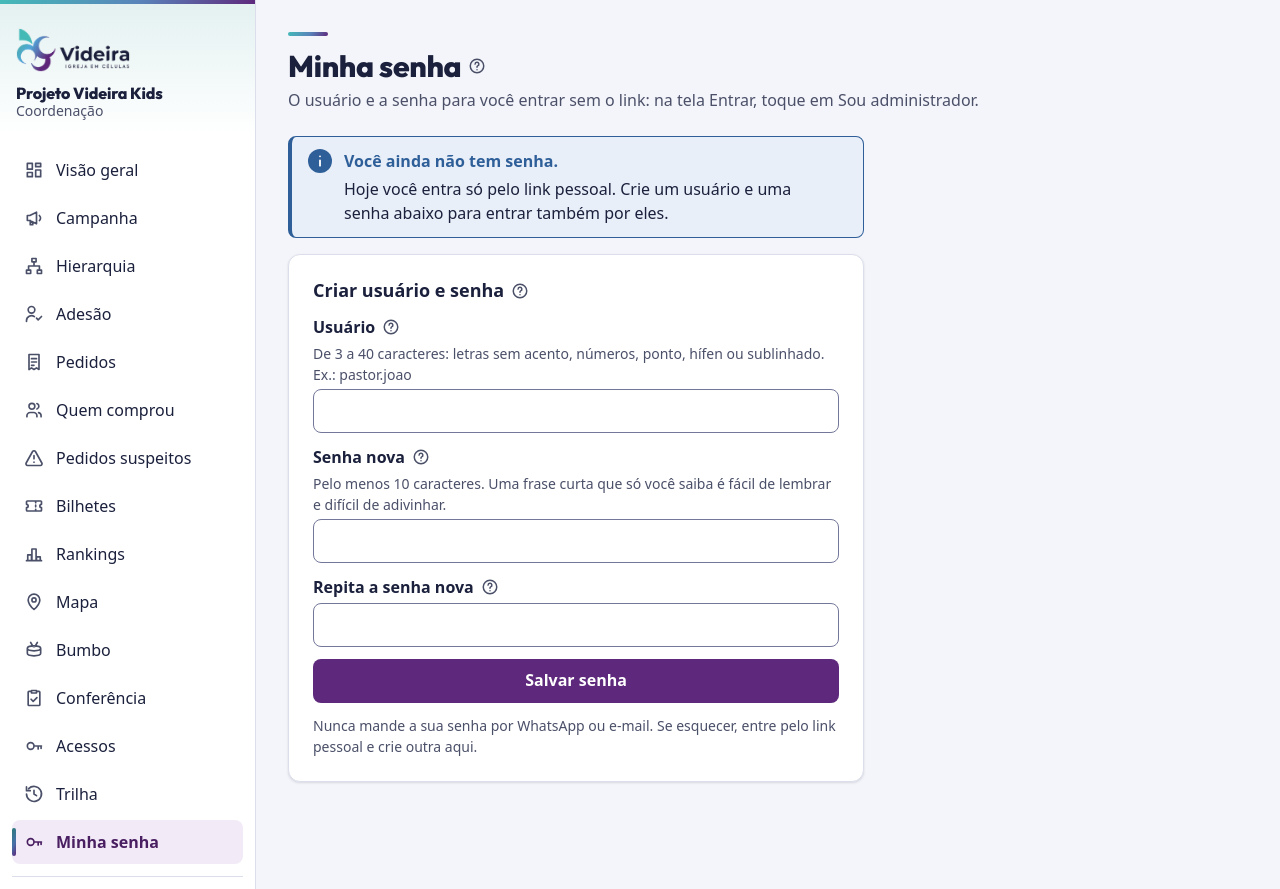
RIFA-073: tela Minha senha › sem senha: cria com usuário, senha e confirmação; o PUT leva os dois e a tela limpa a senha
Check: the text "Você ainda não tem senha." is shown, box [344, 150, 558, 172]
Check: the link "Minha senha" is shown, box [12, 820, 243, 864]
Type "Pastor.Teste" into the field labelled "Usuário".
click(576, 411); type("Pastor.Teste")  # box [313, 389, 839, 433]
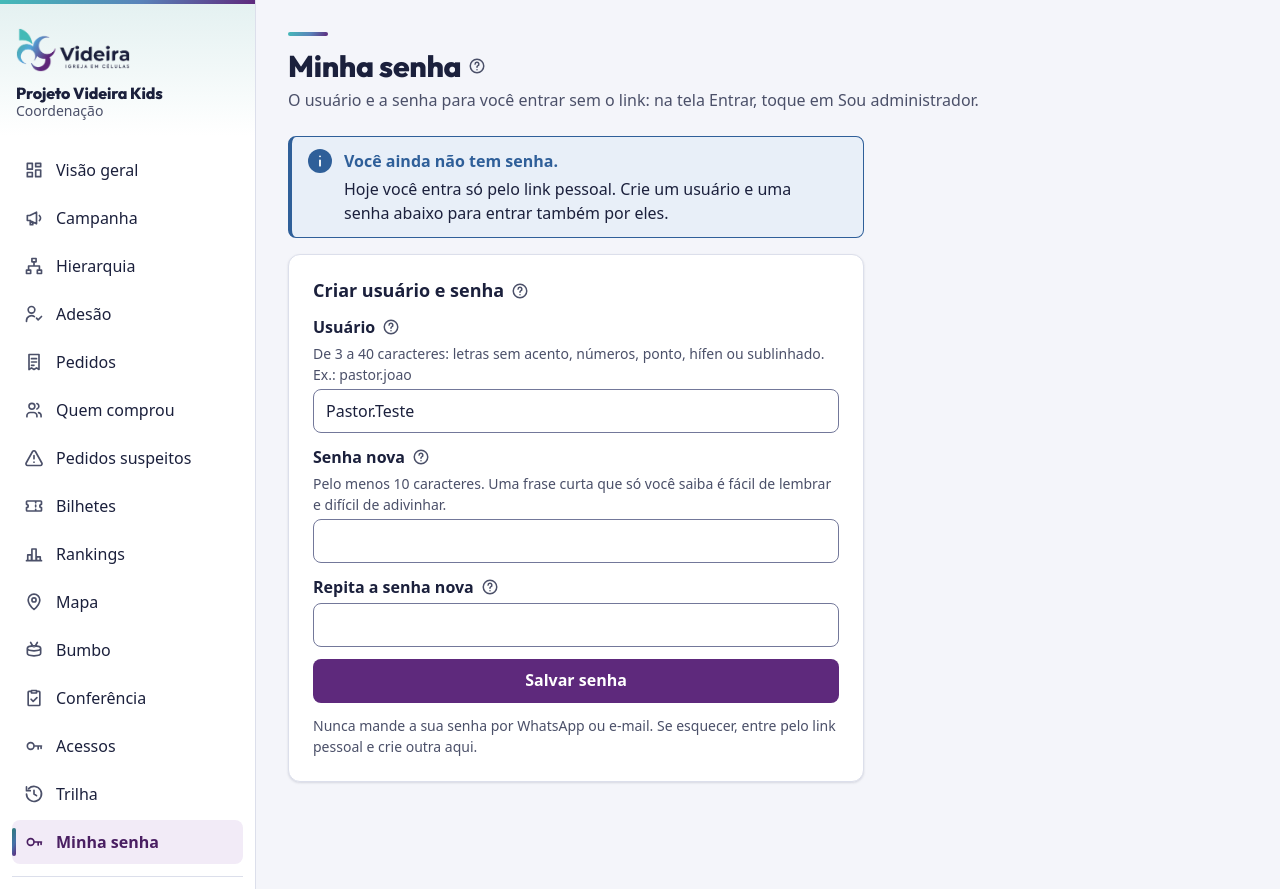
Type "senha ficticia de teste" into the password field labelled "Senha nova".
click(576, 541); type("senha ficticia de teste")  # box [313, 519, 839, 563]
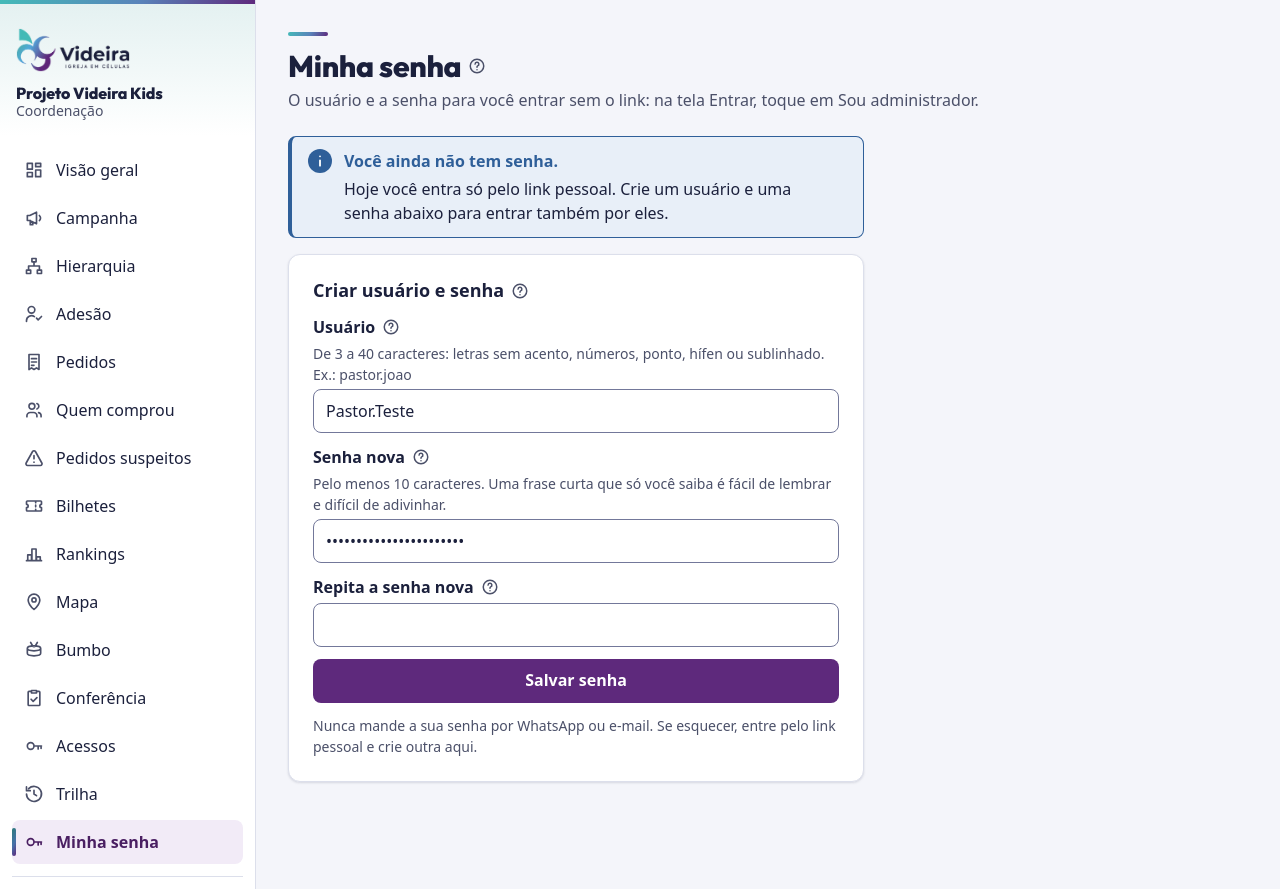
Type "senha ficticia de teste" into the password field labelled "Repita a senha nova".
click(576, 625); type("senha ficticia de teste")  # box [313, 603, 839, 647]
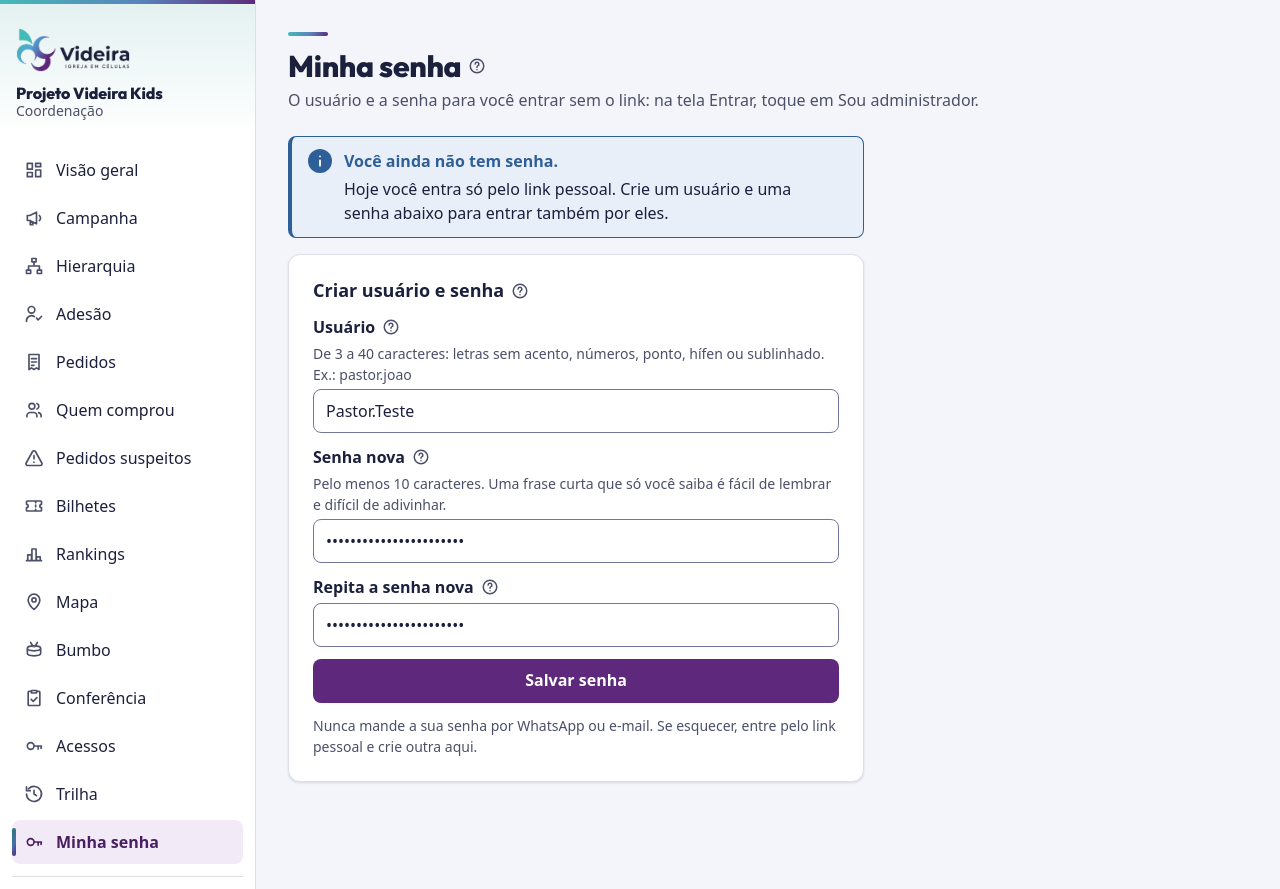
Click the button "Salvar senha".
click(576, 681)  # box [313, 659, 839, 703]
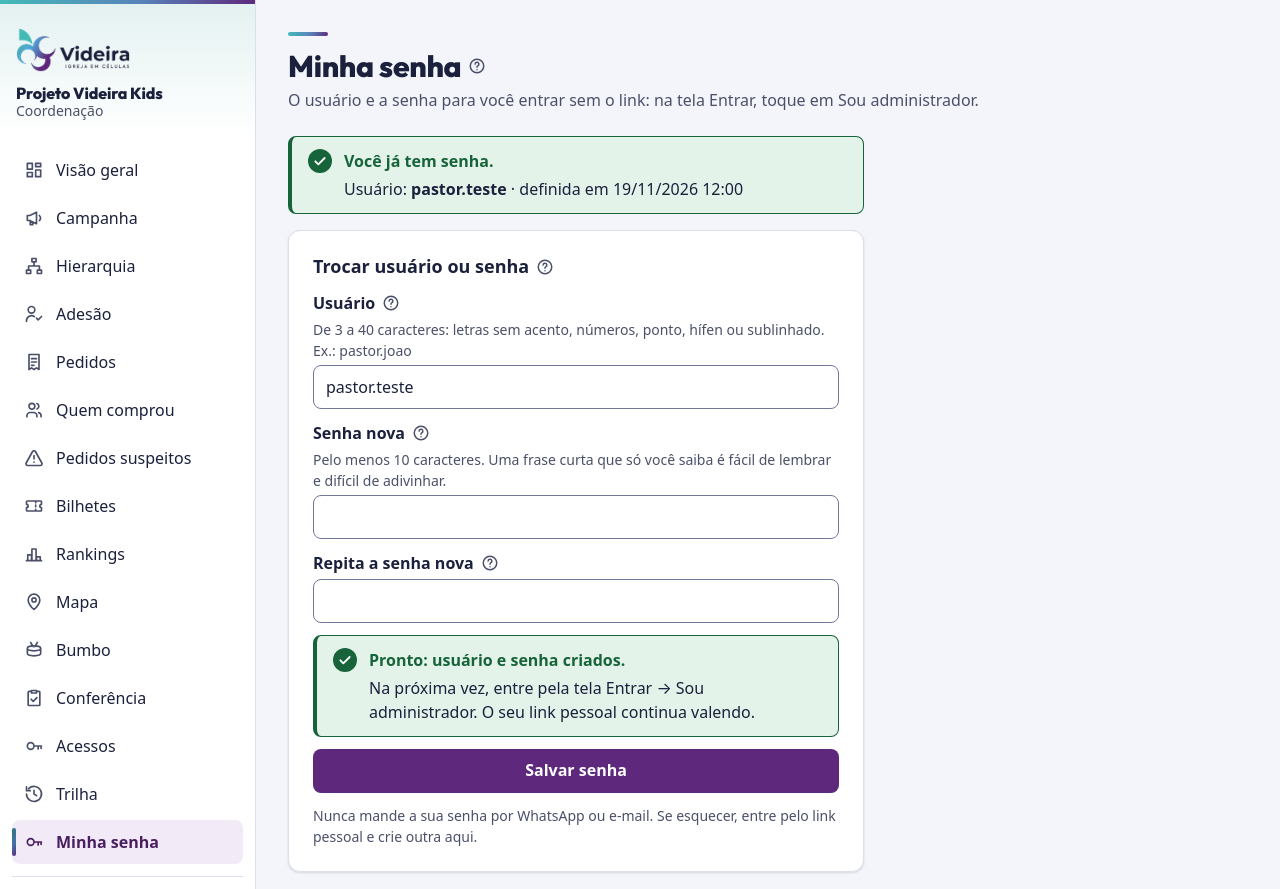
Check: the text "Pronto: usuário e senha criados." is shown, box [369, 649, 625, 671]
Check: the text "Você já tem senha." is shown, box [344, 150, 494, 172]
Check: the text "pastor.teste" is shown, box [411, 178, 507, 200]
